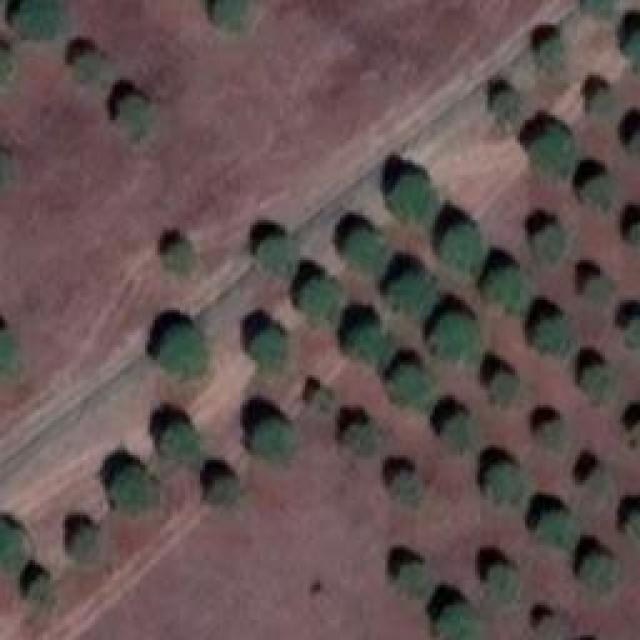Tree: (108, 465, 168, 518), (385, 175, 438, 230), (160, 323, 208, 383), (340, 223, 388, 276), (7, 0, 64, 42), (485, 265, 530, 315), (440, 222, 485, 270), (345, 317, 390, 365), (250, 418, 298, 463), (435, 315, 480, 360), (243, 325, 288, 370), (258, 235, 303, 278), (388, 273, 431, 316), (535, 510, 580, 550), (160, 425, 205, 463), (438, 602, 483, 640), (487, 463, 525, 506), (388, 470, 428, 510), (298, 277, 338, 315), (538, 130, 573, 173), (488, 565, 523, 608), (118, 95, 151, 140), (0, 518, 28, 571), (582, 172, 620, 210), (532, 420, 570, 458), (388, 365, 428, 400), (215, 0, 253, 35), (532, 318, 570, 353), (395, 560, 430, 598), (580, 555, 615, 593), (70, 525, 103, 565), (583, 365, 616, 403), (205, 475, 240, 508), (27, 575, 55, 615), (578, 470, 611, 503), (535, 225, 565, 260), (75, 48, 105, 83), (348, 420, 381, 450), (487, 370, 515, 405), (490, 90, 518, 123), (588, 90, 618, 120), (583, 278, 613, 308), (440, 418, 470, 448), (165, 243, 190, 276), (540, 37, 568, 65), (0, 333, 18, 376), (0, 148, 18, 188), (305, 390, 333, 415), (625, 28, 640, 71), (625, 318, 640, 361), (585, 0, 615, 18), (625, 223, 640, 256), (625, 510, 639, 543), (542, 617, 559, 640)
